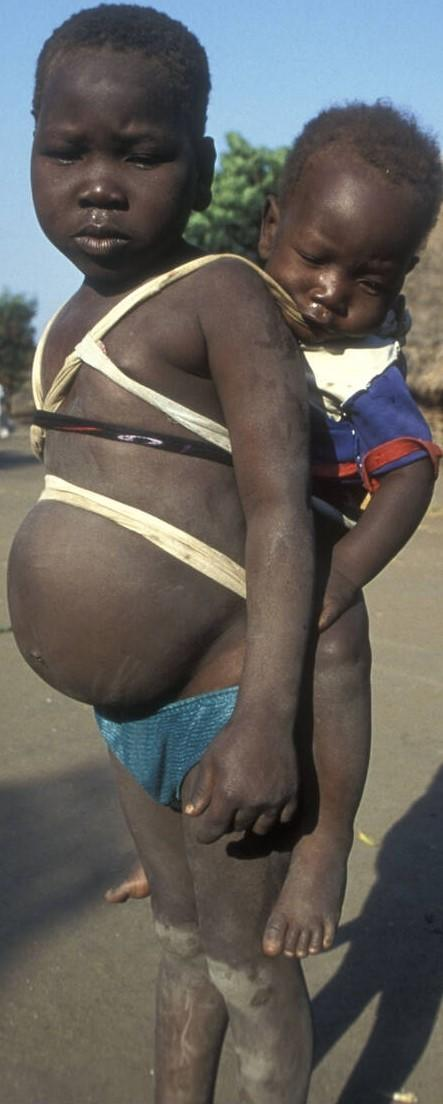MalNutrisi: (20, 37, 273, 357)
